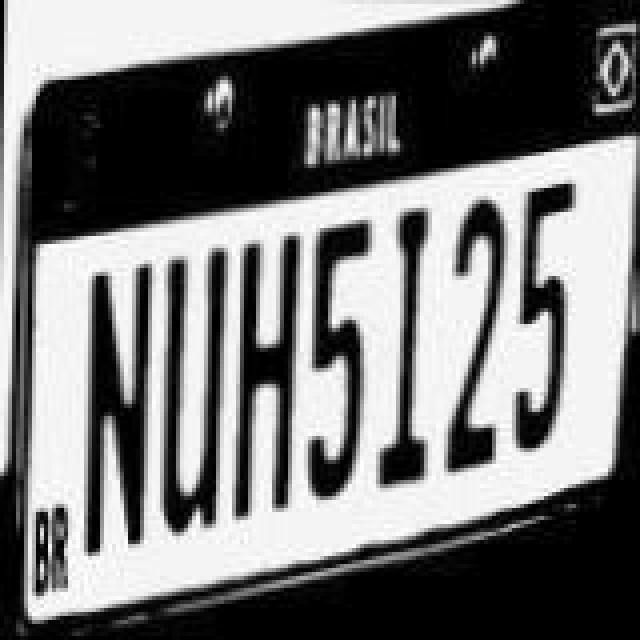2: (442, 194, 514, 478)
5: (306, 222, 370, 502), (520, 178, 580, 454)
H: (234, 246, 302, 518)
I: (376, 208, 436, 496)
N: (82, 246, 158, 554)
U: (154, 226, 230, 526)
